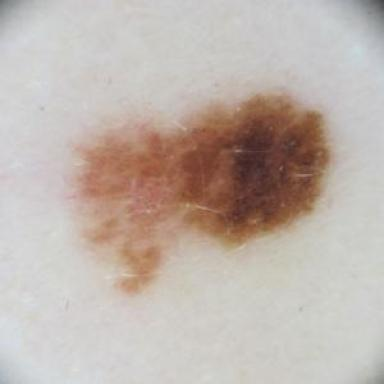Melanoma: (83, 94, 329, 290)
